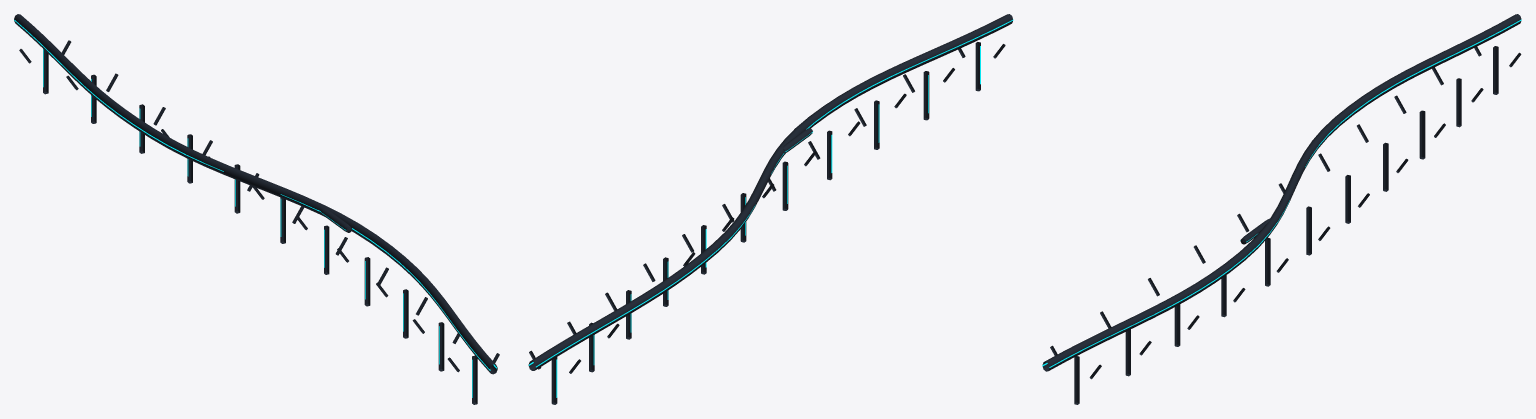
The model's file is Monorail.glb.
3 views of the same model, side by side, from view 1: azimuth 30°, elevation 25°; view 2: azimuth 150°, elevation 25°; view 3: azimuth 330°, elevation 25° (orthographic).
Parts seen in each view (by area): view 1: Mono_Track, Mono_RailL; view 2: Mono_Track, Mono_RailL; view 3: Mono_Track, Mono_RailR.
Part boxes in pixels (<box>): Mono_Track: <box>14,14,497,374</box>; Mono_RailL: <box>14,19,490,370</box>; Mono_Track: <box>528,14,1012,370</box>; Mono_RailL: <box>536,19,1013,367</box>; Mono_Track: <box>1042,14,1521,371</box>; Mono_RailR: <box>1049,19,1521,367</box>.
Bounding box in the file's own units: 35.88 × 30.22 × 380.
